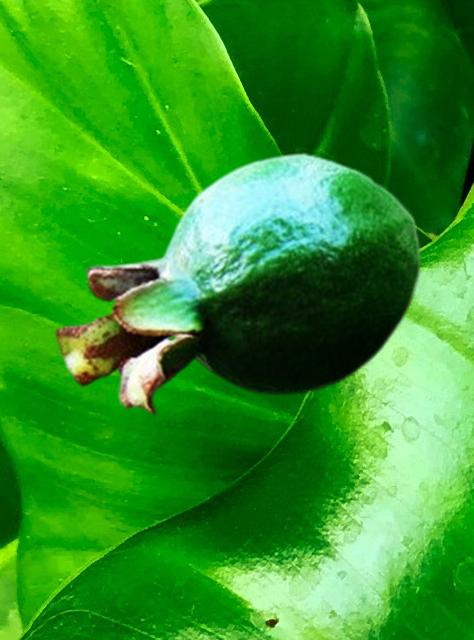guava: (54, 151, 421, 415)
